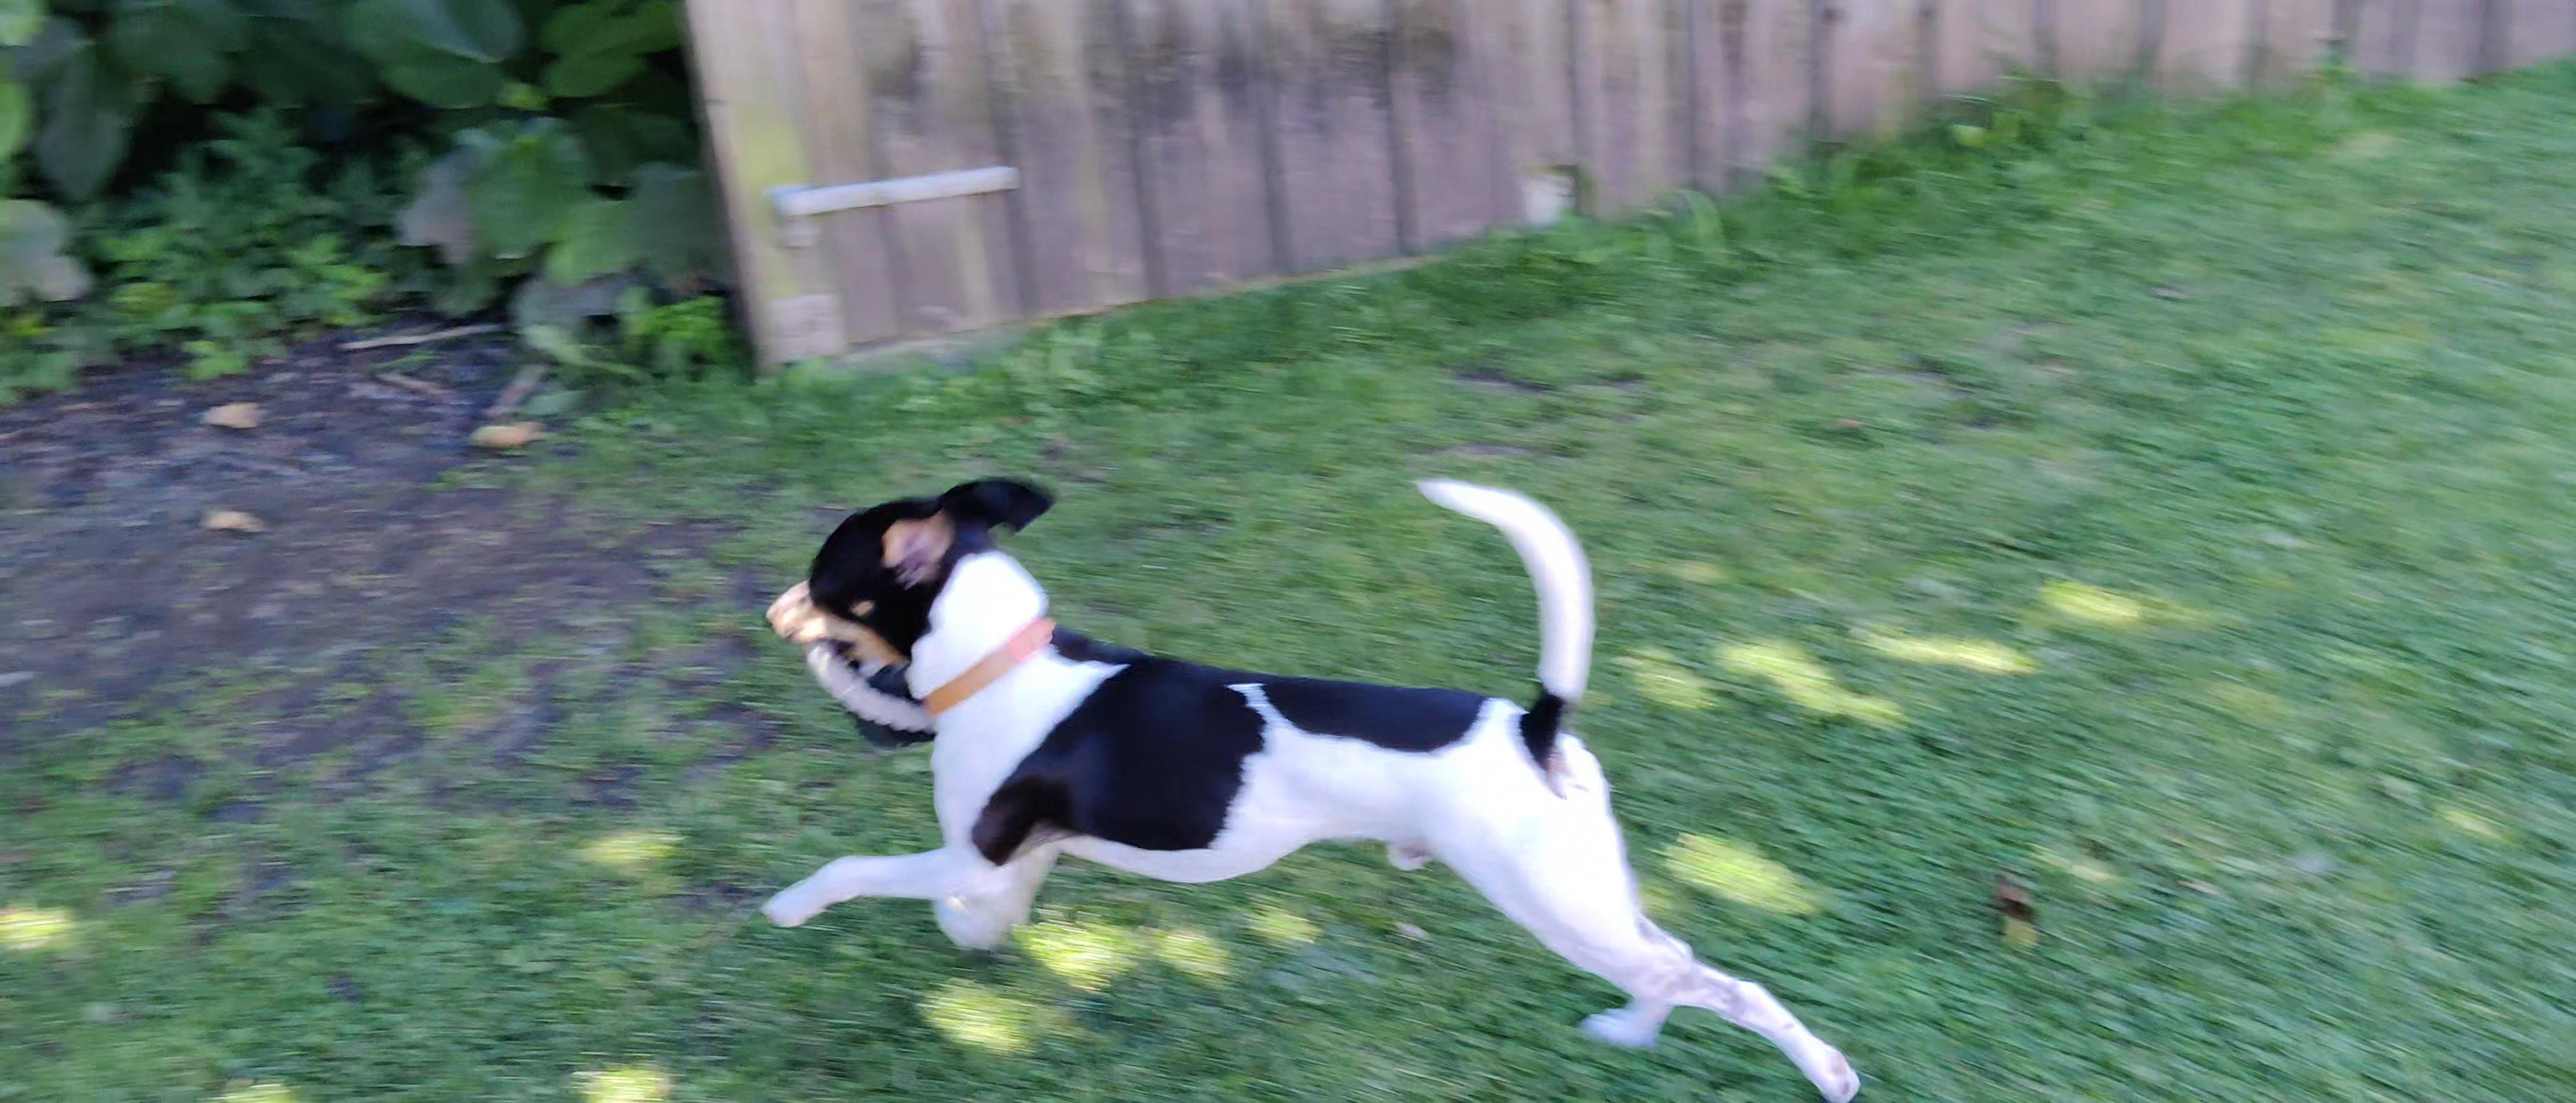Dog: (749, 470, 1873, 1103)
